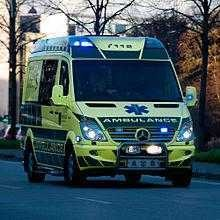Ambulance: (12, 29, 198, 205)
